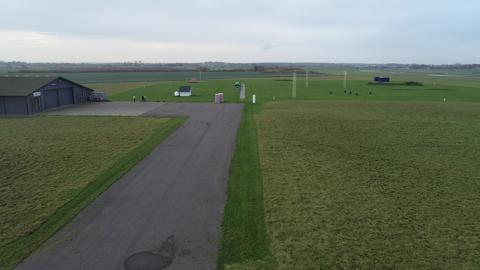RockwoolPallet: (218, 92, 224, 103)
